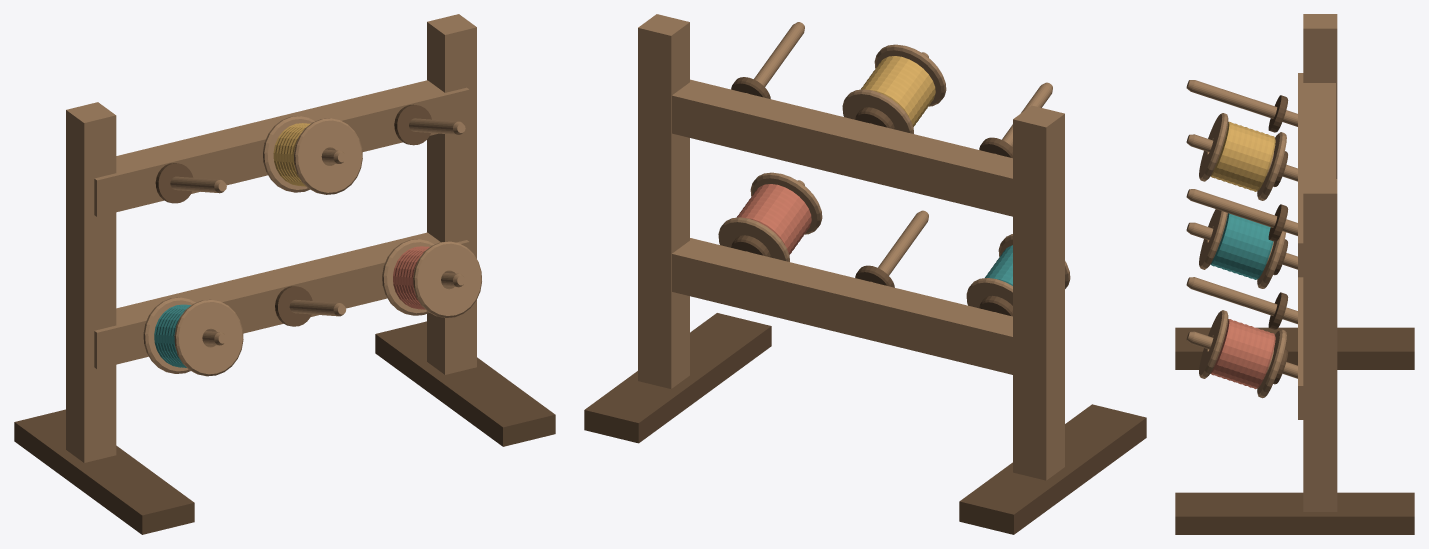
3 renders of one model, left to right at view 1: azimuth 30°, elevation 25°; view 2: azimuth 150°, elevation 25°; view 3: azimuth 270°, elevation 25°, orthographic. The views are drawn at different scales.
Visible parts, largest first — view 1: Rack_Upright_1, Rack_Crossrail_2, Rack_Upright_2, Rack_Crossrail_1, Rack_Foot_2, Rack_Foot_1, Row1_Slot1_HollowSpool, Row1_Slot3_HollowSpool, Row2_Slot2_HollowSpool, Row1_Slot3_ThreadWrap, Row2_Slot2_ThreadWrap, Row1_Slot1_ThreadWrap (+6 smaller); view 2: Rack_Crossrail_1, Rack_Crossrail_2, Rack_Upright_1, Rack_Upright_2, Rack_Foot_1, Rack_Foot_2, Row2_Slot2_ThreadWrap, Row1_Slot3_ThreadWrap, Row1_Slot3_HollowSpool, Row2_Slot2_HollowSpool, Row1_Slot1_HollowSpool, Row1_Slot2_InclinedPeg (+1 smaller); view 3: Rack_Upright_2, Rack_Foot_2, Rack_Foot_1, Rack_Crossrail_2, Row2_Slot2_ThreadWrap, Row1_Slot3_ThreadWrap, Row1_Slot1_ThreadWrap, Rack_Upright_1, Row1_Slot3_HollowSpool, Row2_Slot2_HollowSpool, Row1_Slot1_HollowSpool, Row2_Slot1_InclinedPeg (+9 smaller).
Boxes of the visible parts, x1,y1,x2,y2 form: Rack_Upright_1: (66, 102, 116, 462); Rack_Crossrail_2: (94, 80, 469, 216); Rack_Upright_2: (427, 14, 476, 374); Rack_Crossrail_1: (94, 232, 469, 369); Rack_Foot_2: (375, 321, 555, 446); Rack_Foot_1: (14, 409, 194, 534); Row1_Slot1_HollowSpool: (143, 297, 243, 376); Row1_Slot3_HollowSpool: (382, 239, 481, 317); Row2_Slot2_HollowSpool: (263, 116, 362, 194); Row1_Slot3_ThreadWrap: (393, 246, 429, 309); Row2_Slot2_ThreadWrap: (273, 123, 310, 186); Row1_Slot1_ThreadWrap: (154, 304, 190, 367); Rack_Crossrail_1: (672, 238, 1012, 374); Rack_Crossrail_2: (672, 79, 1012, 216); Rack_Upright_1: (1013, 105, 1064, 480); Rack_Upright_2: (638, 14, 689, 388); Rack_Foot_1: (959, 404, 1146, 534); Rack_Foot_2: (584, 313, 771, 443); Row2_Slot2_ThreadWrap: (860, 56, 935, 126); Row1_Slot3_ThreadWrap: (736, 184, 811, 254); Row1_Slot3_HollowSpool: (718, 172, 822, 261); Row2_Slot2_HollowSpool: (842, 44, 946, 133); Row1_Slot1_HollowSpool: (966, 234, 1070, 308); Row1_Slot2_InclinedPeg: (870, 210, 928, 282); Rack_Upright_2: (1303, 179, 1337, 511); Rack_Foot_2: (1175, 492, 1414, 534); Rack_Foot_1: (1175, 327, 1414, 369); Rack_Crossrail_2: (1298, 73, 1335, 277); Row2_Slot2_ThreadWrap: (1210, 121, 1275, 191); Row1_Slot3_ThreadWrap: (1210, 319, 1275, 389); Row1_Slot1_ThreadWrap: (1210, 213, 1273, 279); Rack_Upright_1: (1303, 14, 1337, 178); Row1_Slot3_HollowSpool: (1199, 310, 1286, 398); Row2_Slot2_HollowSpool: (1199, 113, 1286, 200); Row1_Slot1_HollowSpool: (1199, 209, 1286, 288); Row2_Slot1_InclinedPeg: (1186, 80, 1297, 126).
Bounding box in the file's own units: 0.71 × 0.59 × 0.38.
